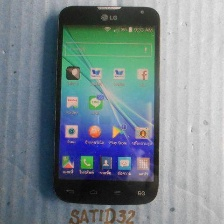phone: (52, 1, 163, 210)
